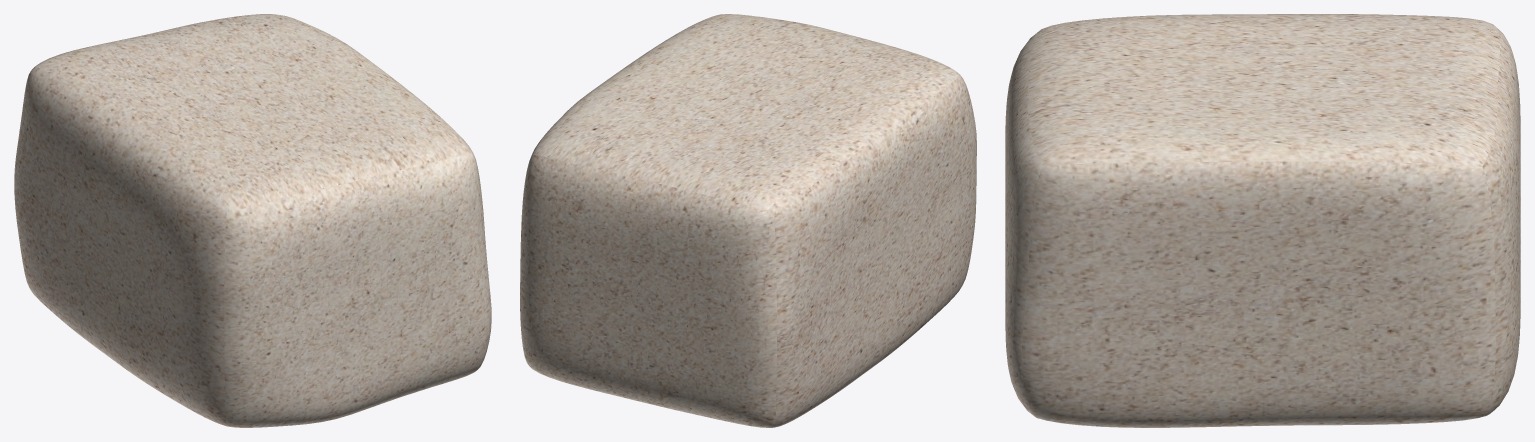
The model's file is SandBlock2.fbx.
3 renders of one model, left to right at view 1: azimuth 30°, elevation 25°; view 2: azimuth 150°, elevation 25°; view 3: azimuth 270°, elevation 25°, orthographic. The views are drawn at different scales.
Visible parts, largest first — view 1: Cube; view 2: Cube; view 3: Cube.
Boxes of the visible parts, x1,y1,x2,y2 form: Cube: [14, 14, 491, 427]; Cube: [520, 14, 976, 427]; Cube: [1005, 14, 1520, 427].
Bounding box in the file's own units: 1.49 × 2 × 1.23.
1 material, 1 textured.
